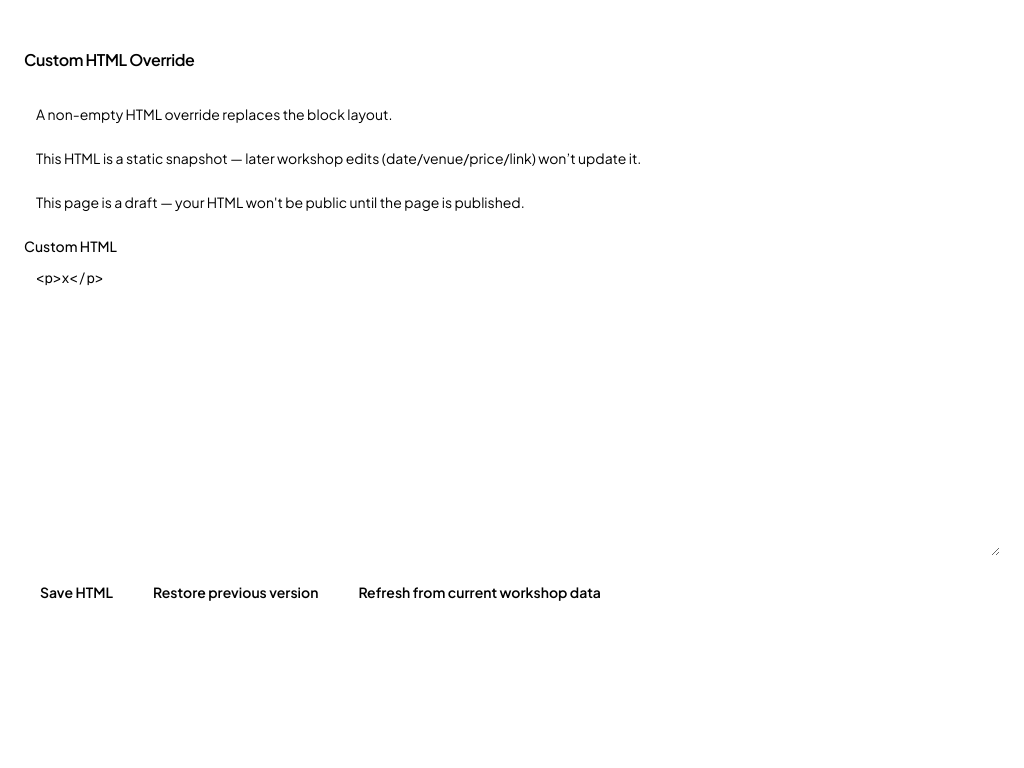
Test: shows the 409 conflict message when save returns 409
Click the button "Save HTML" at (76, 592), box [24,572,129,612]
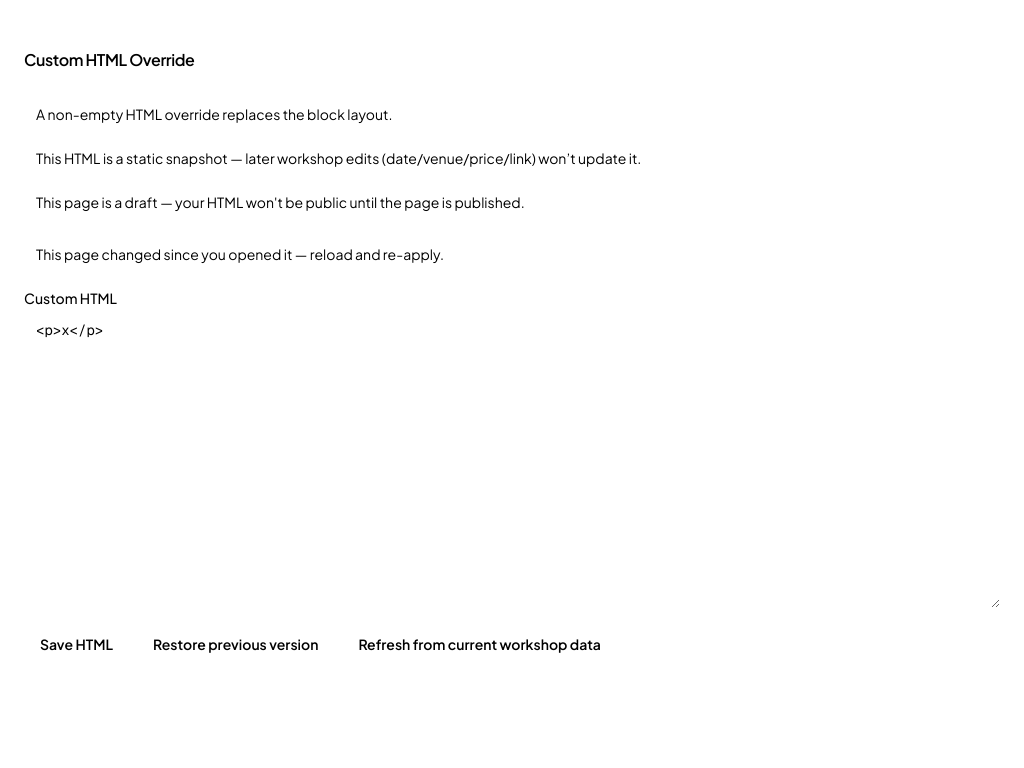
Expected: the text "This page changed since you opened it — reload and re-apply." is shown, [36,245,444,263]
